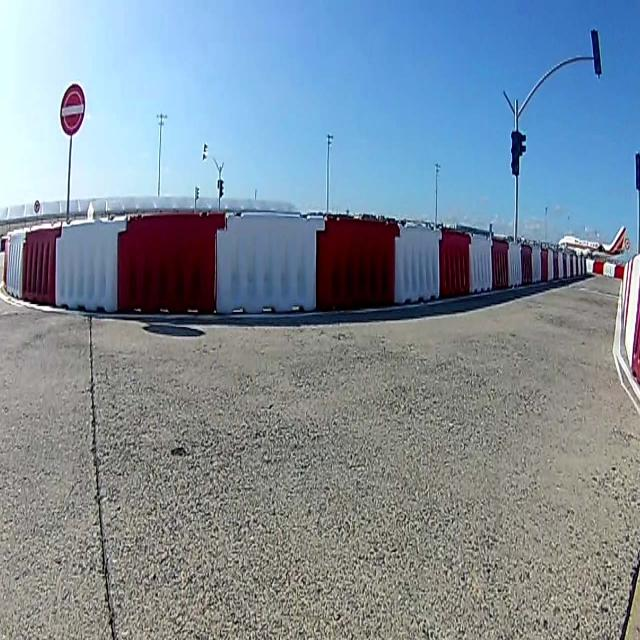girisyok: (61, 86, 85, 132)
